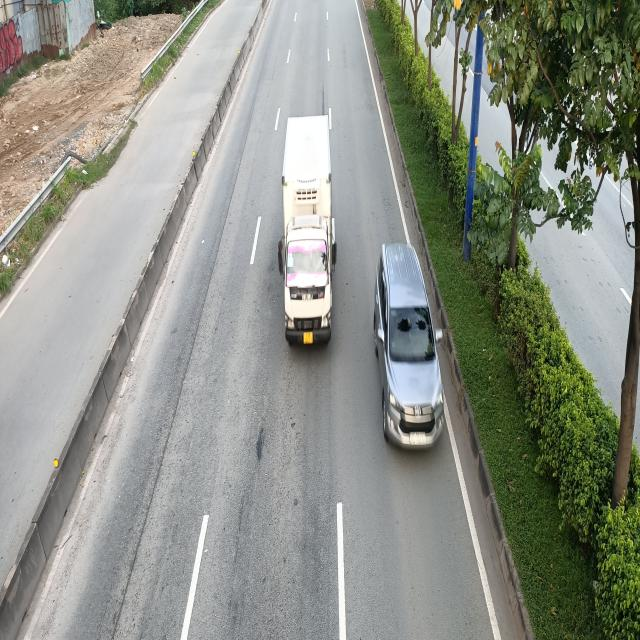car: (372, 240, 441, 450)
truck: (275, 112, 335, 344)
